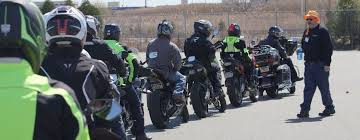helmet: (1, 1, 48, 68), (45, 5, 87, 52), (191, 17, 214, 38), (104, 23, 122, 43), (156, 20, 174, 39), (227, 22, 242, 37), (268, 25, 281, 40)
